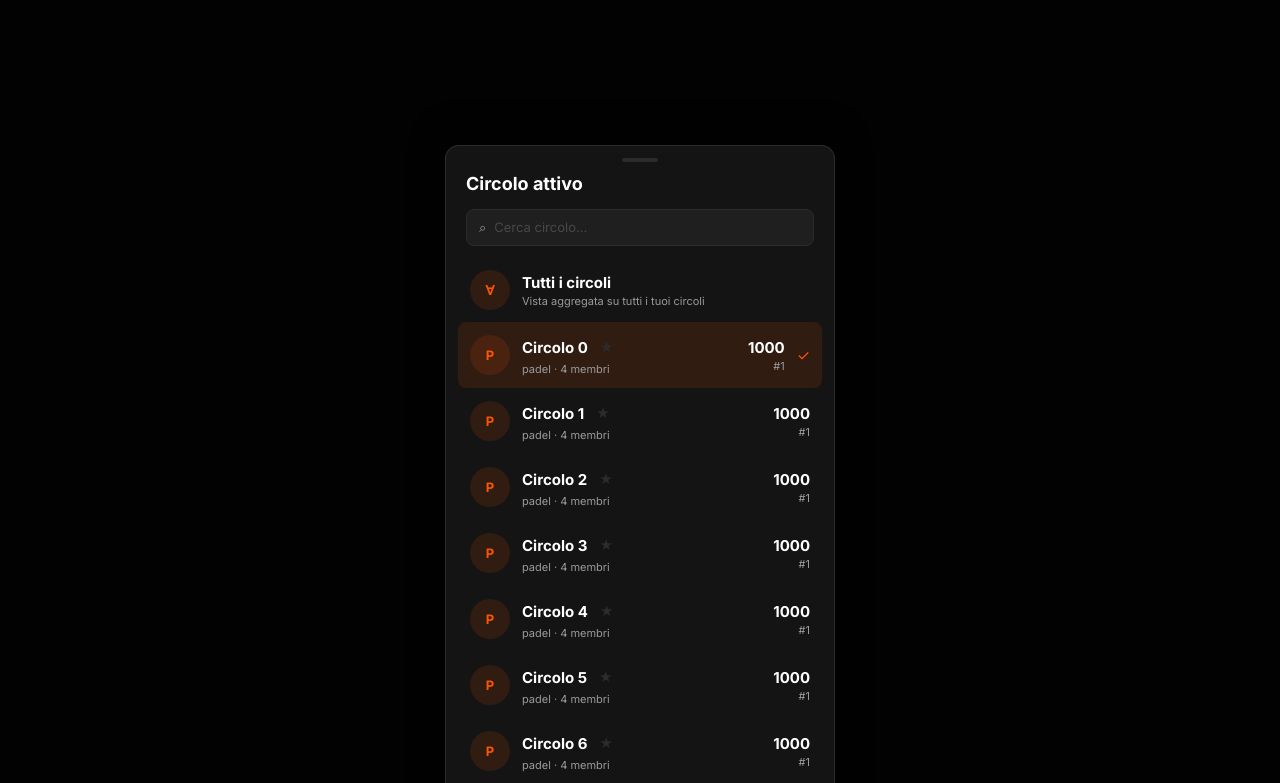
Test: ActiveCirclePanelComponent › click sulla stella aggiunge ai preferiti e riordina in gruppo "Preferiti"
Click the 1st button with class "fav-star" at (607, 347), box x1=596 y1=334 x2=617 y2=360
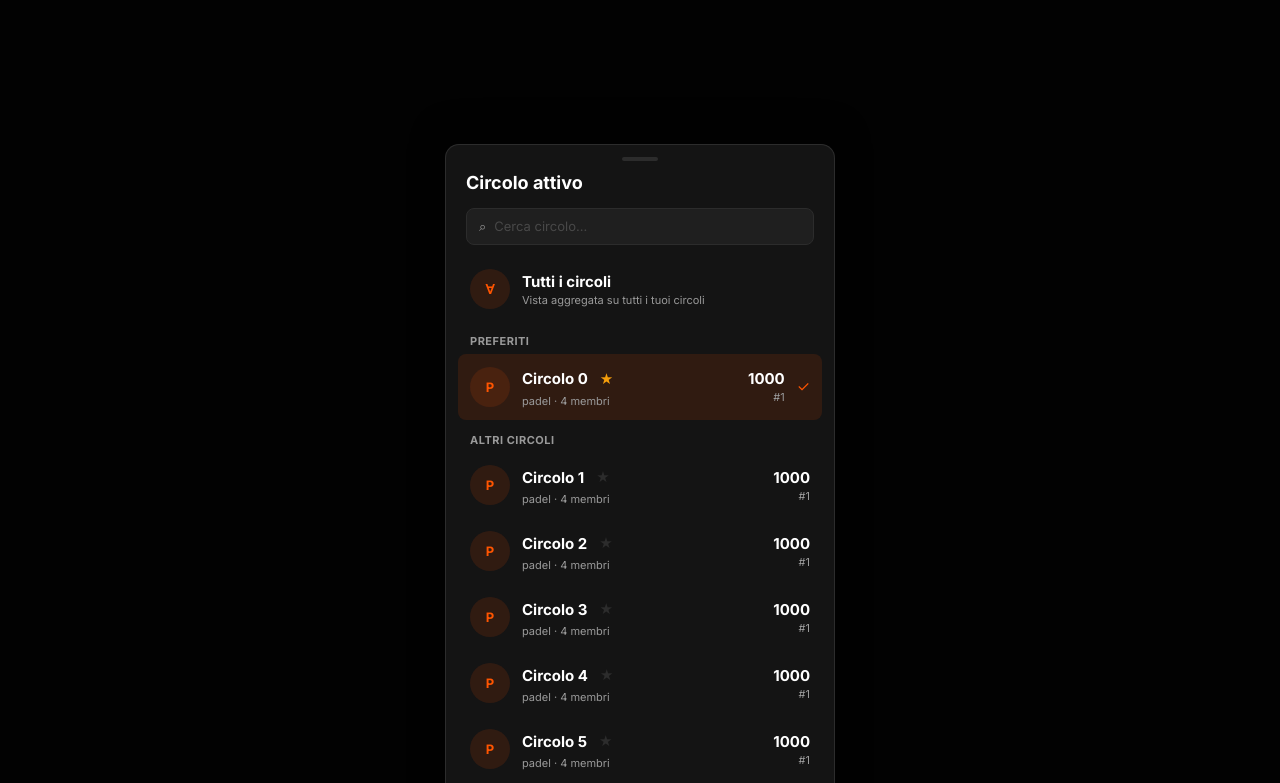
Expected: the number of elements with class "sheet-group-label" is 2, x1=470 y1=334 x2=529 y2=348; x1=470 y1=433 x2=555 y2=447
Expected: the text with class "sheet-group-label" reads "Preferiti", x1=470 y1=334 x2=529 y2=348
